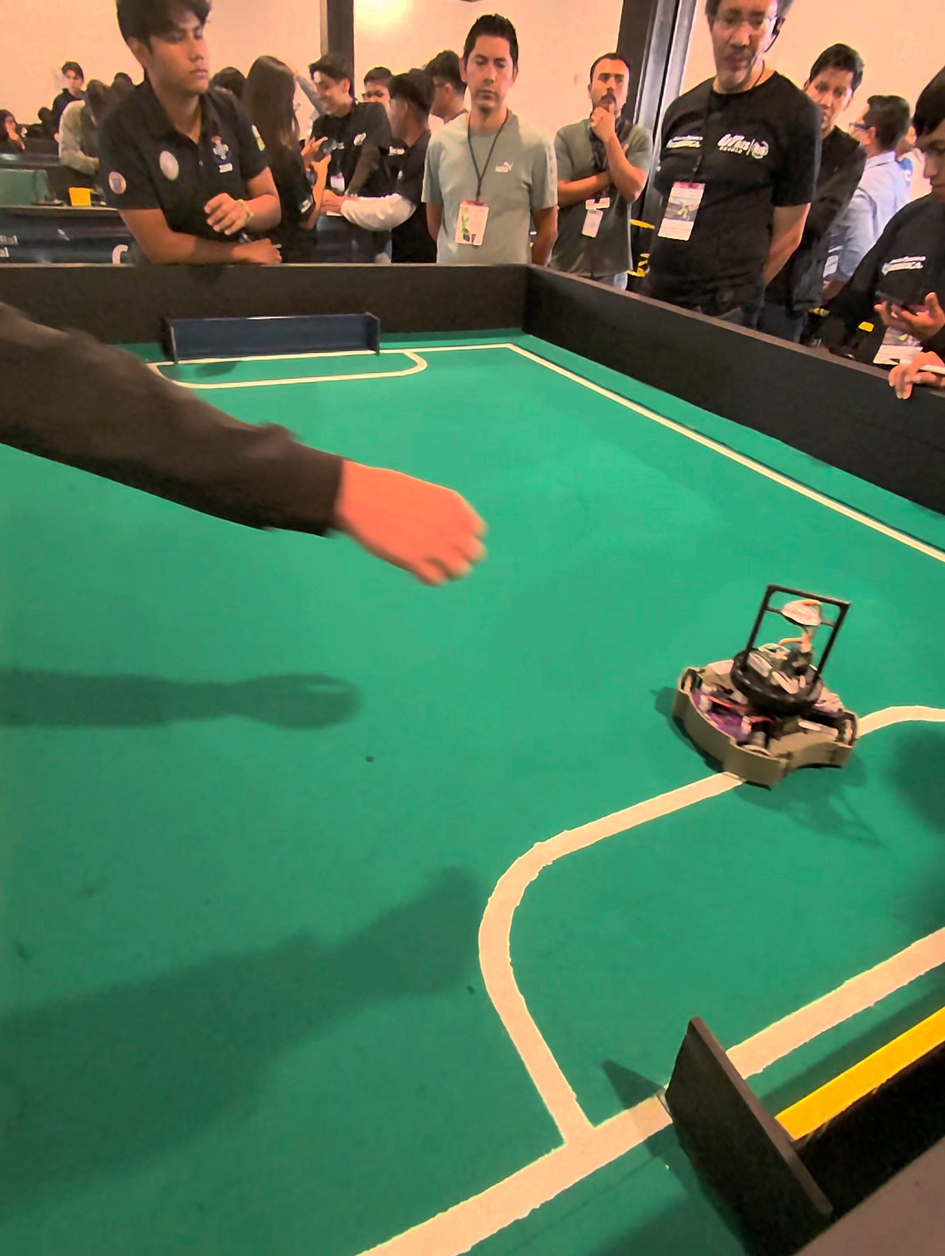Robot: (681, 567, 866, 789)
